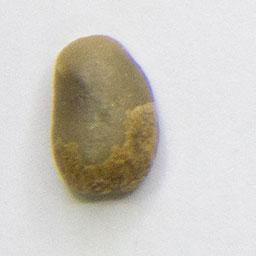longberry: (46, 31, 165, 200)
